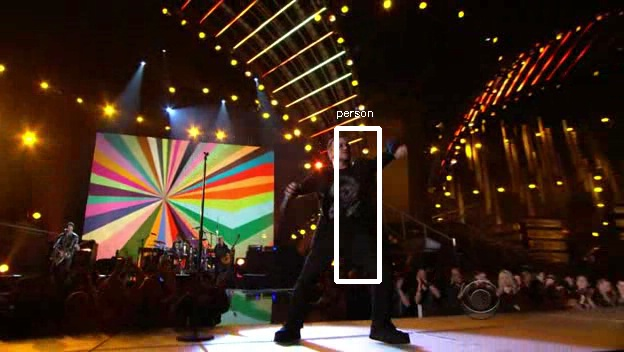person: (313, 136, 379, 255), (310, 136, 376, 255), (316, 136, 382, 255), (313, 133, 379, 252), (313, 139, 379, 258)
target_negative: (211, 113, 550, 314), (520, 86, 622, 217), (14, 110, 290, 141), (277, 109, 410, 160), (313, 212, 439, 256), (183, 256, 283, 310)
